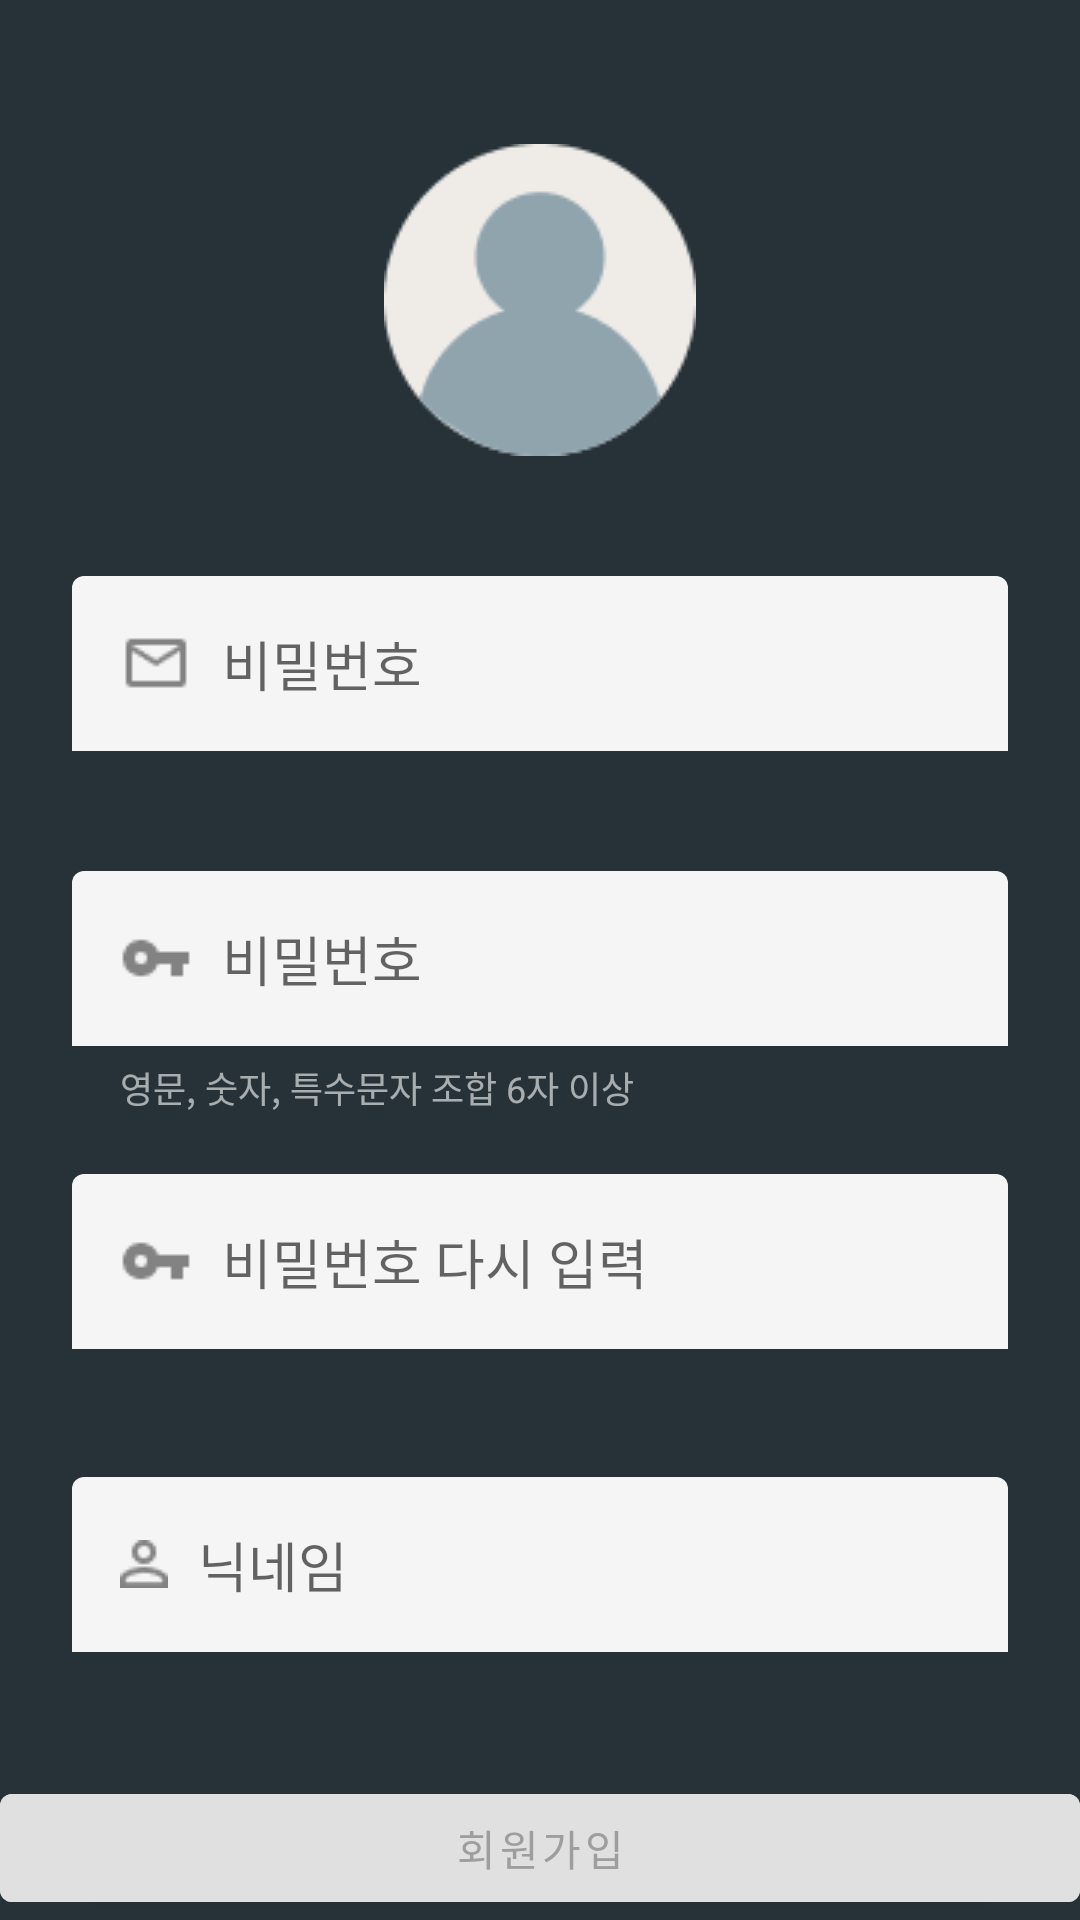

Icons on this 1080 × 1920 Android screen, each with the point to tap as (x,y):
profile: (540,300)
